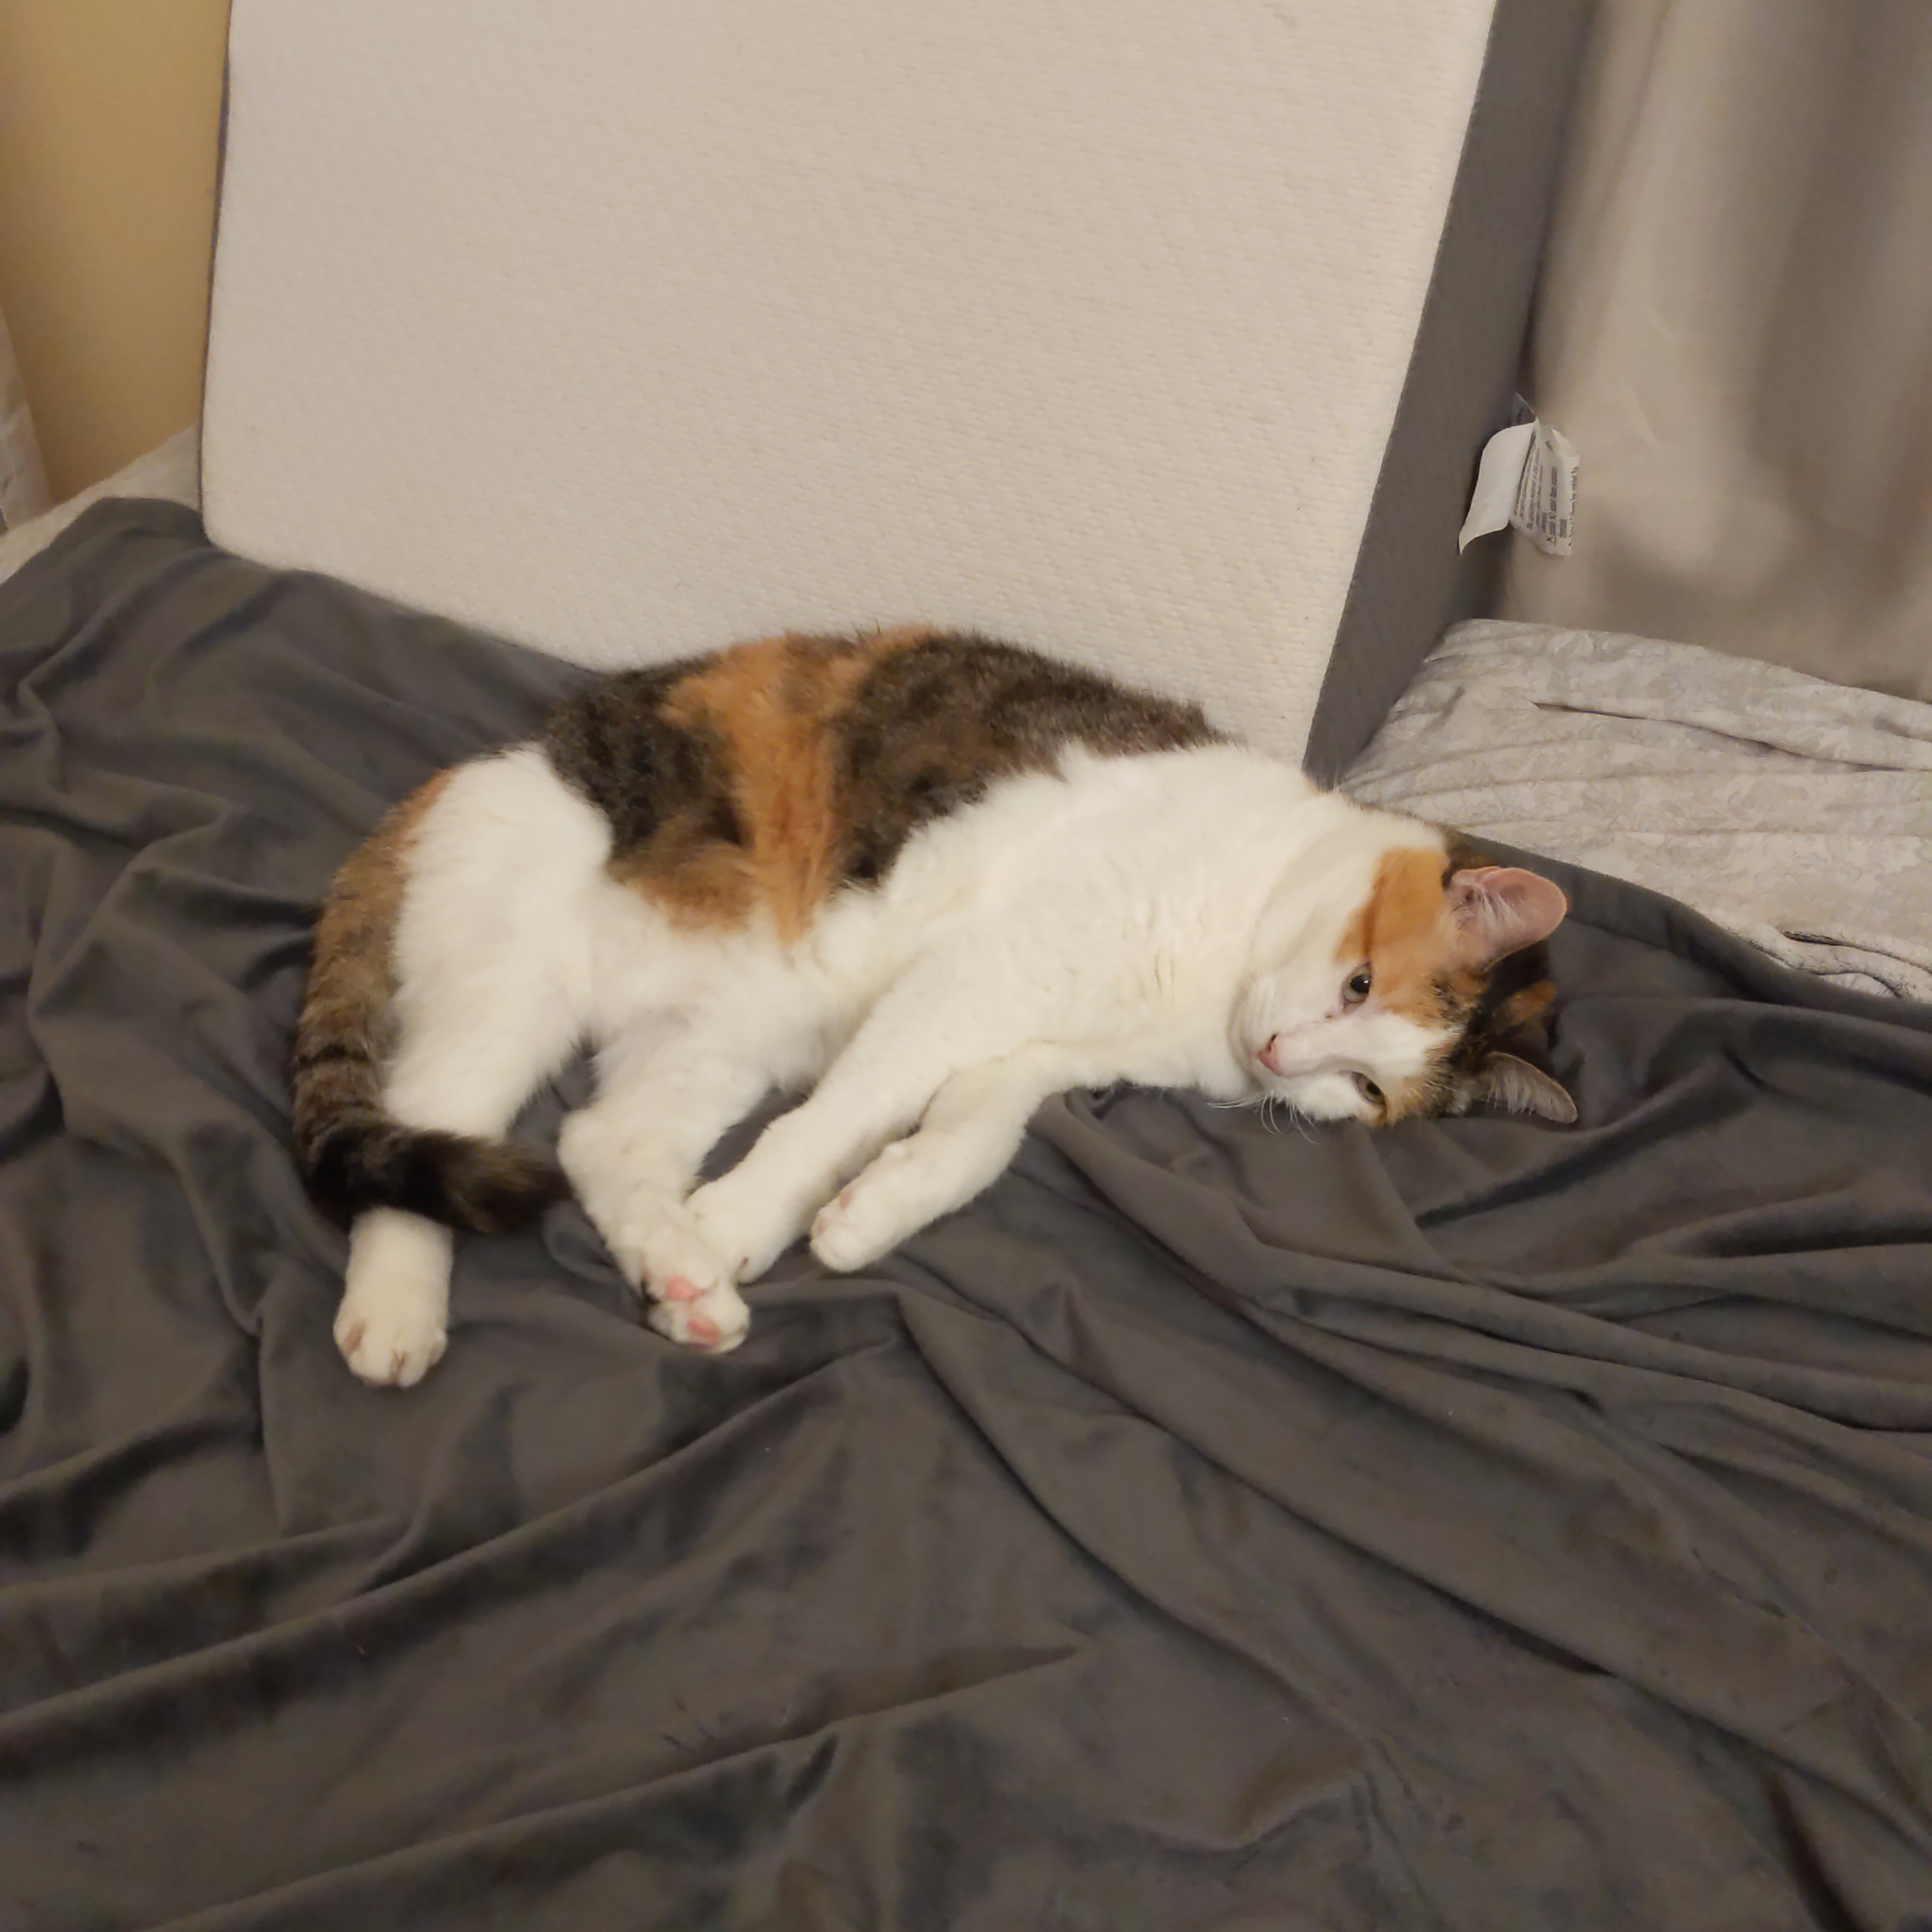Calico: (287, 630, 1582, 1391)
